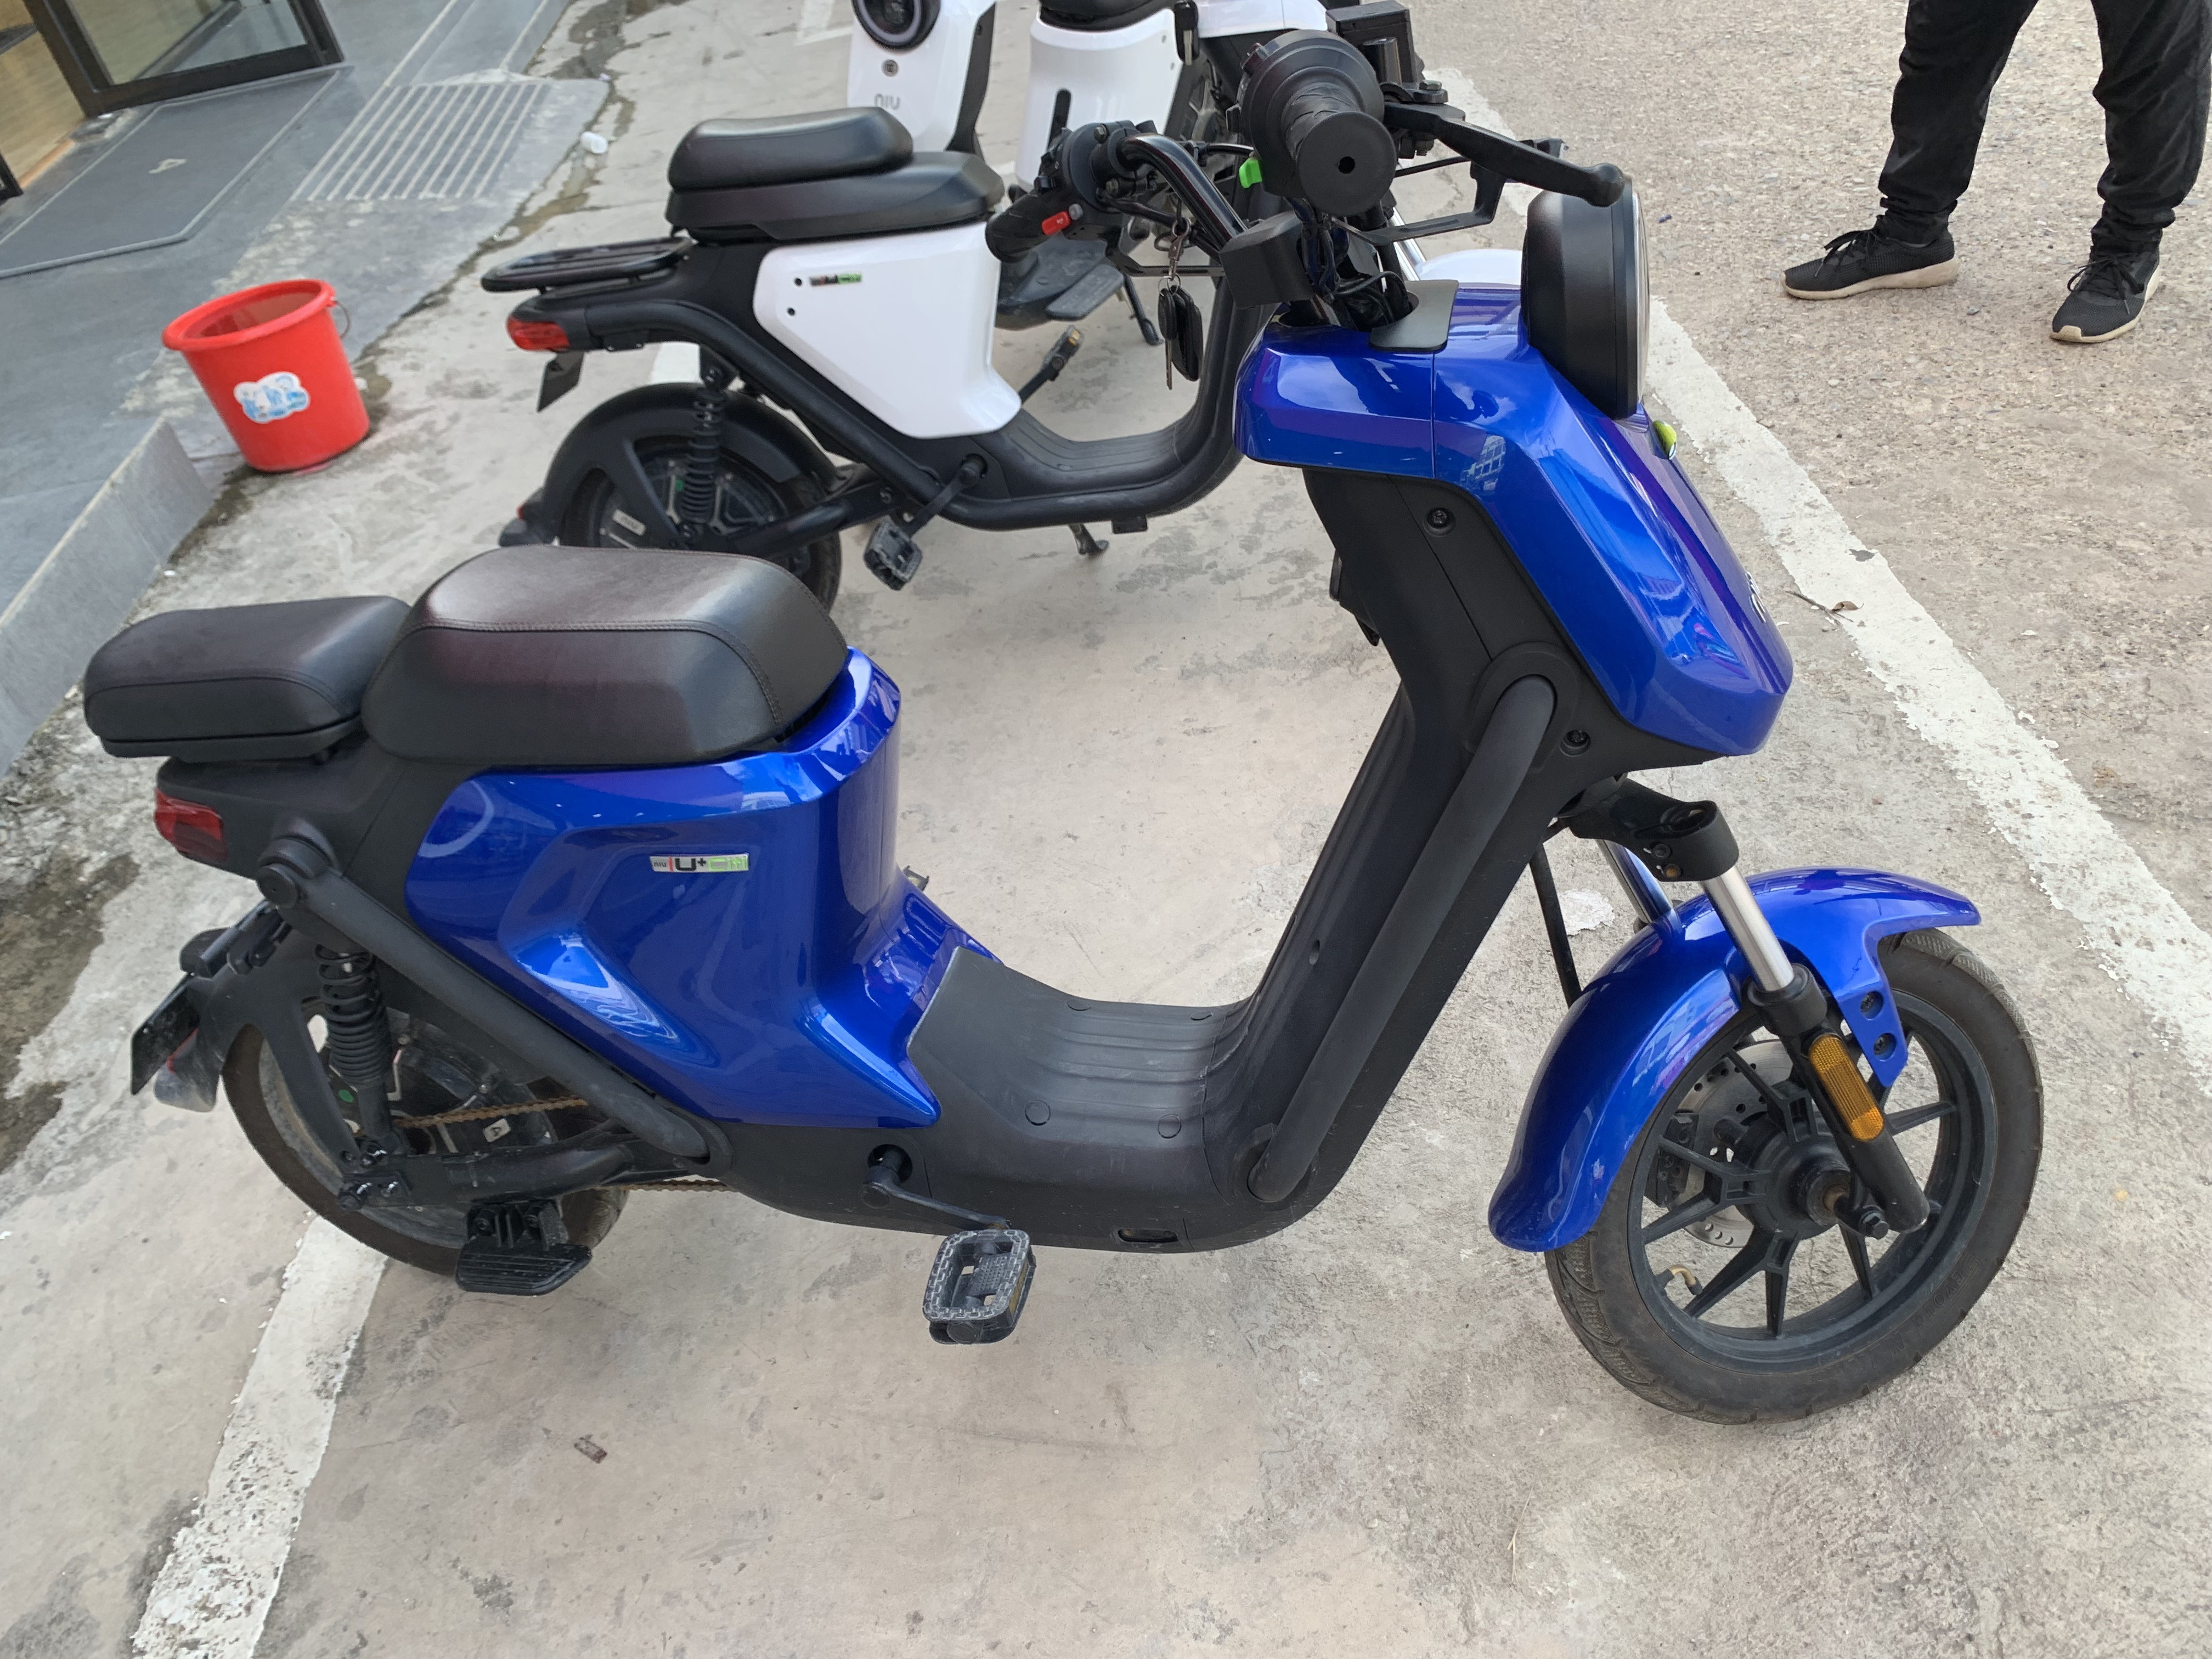电动车: (94, 103, 2076, 1466), (465, 52, 1494, 610)
